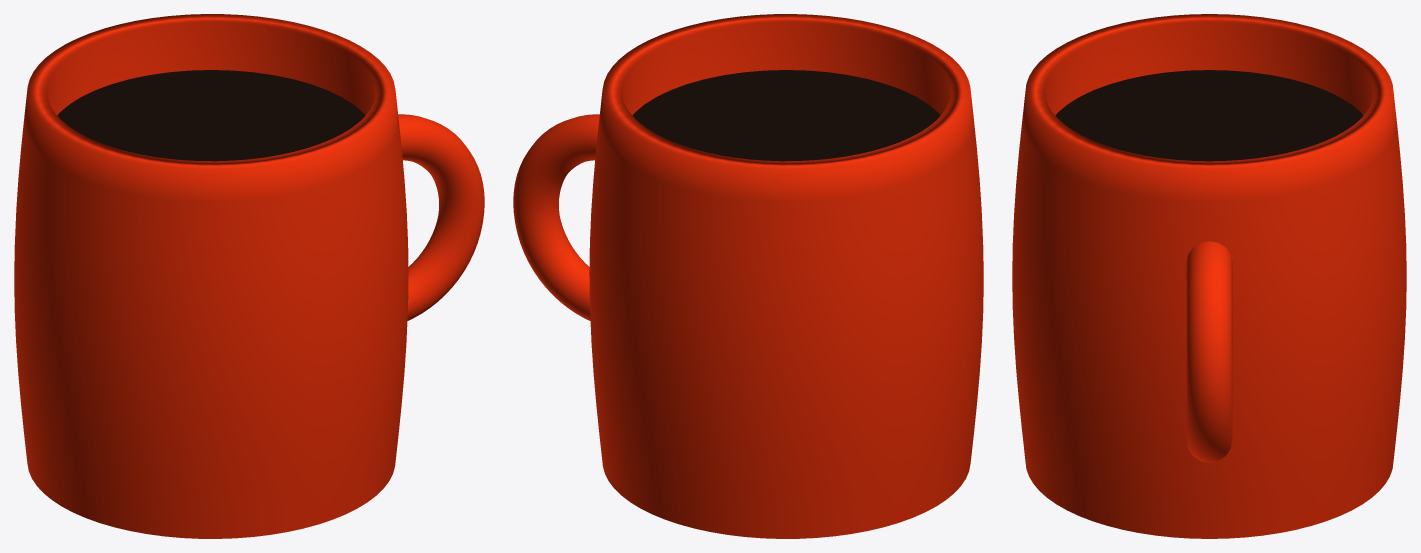
Rendered from mug.obj.
The picture shows the model from 3 angles, left to right: view 1: azimuth 30°, elevation 25°; view 2: azimuth 150°, elevation 25°; view 3: azimuth 270°, elevation 25°; orthographic projection.
Bounding box in the file's own units: 0.775 × 0.62 × 0.6.
